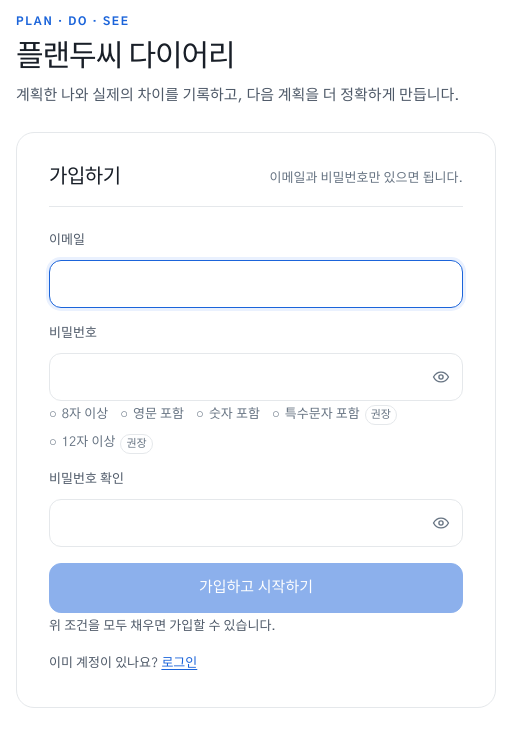
it: 거절당한 뒤 › 두 비밀번호를 비우고 다시 가린다
The width and height of the screenshot is (513, 733).
Expected: the password field labelled "비밀번호" is shown, [49, 353, 463, 401]
In the field labelled "이메일": (256,284) [49, 260, 463, 308], type "synthetic@example.invalid"
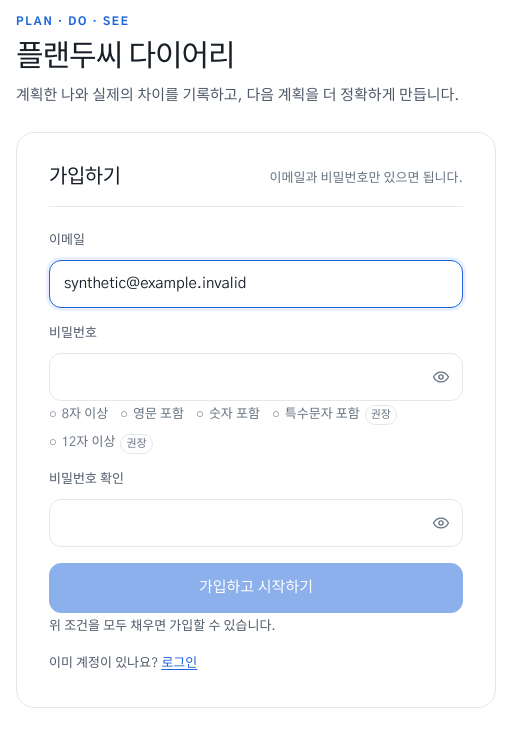
In the password field labelled "비밀번호": (256,377) [49, 353, 463, 401], type "합성-비밀번호-4b2e"
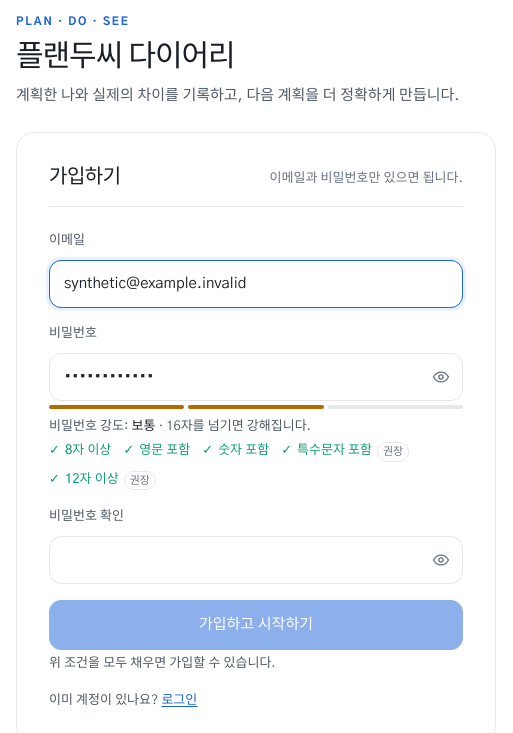
In the password field labelled "비밀번호 확인": (256,560) [49, 536, 463, 584], type "합성-비밀번호-4b2e"
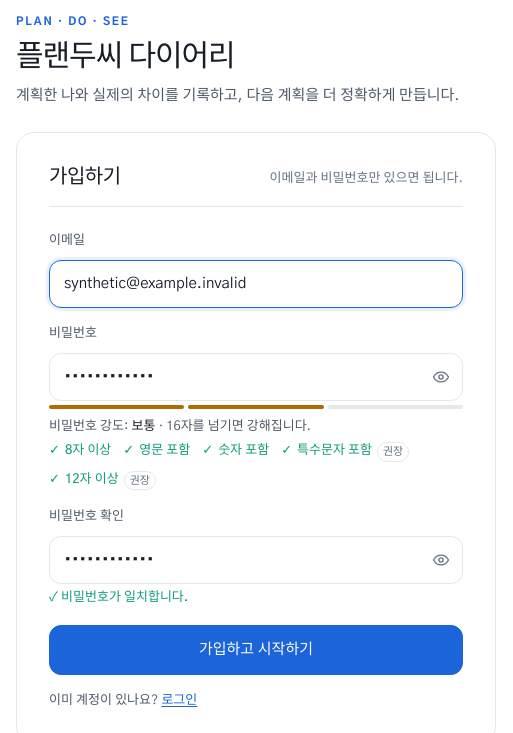
Click the button named "비밀번호 보기": (441,377) [423, 359, 459, 395]
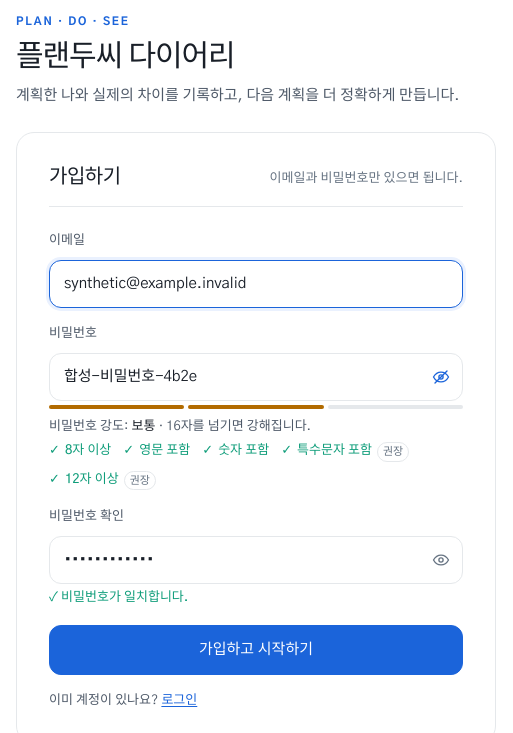
Click the button named "비밀번호 확인 보기": (441,560) [423, 542, 459, 578]
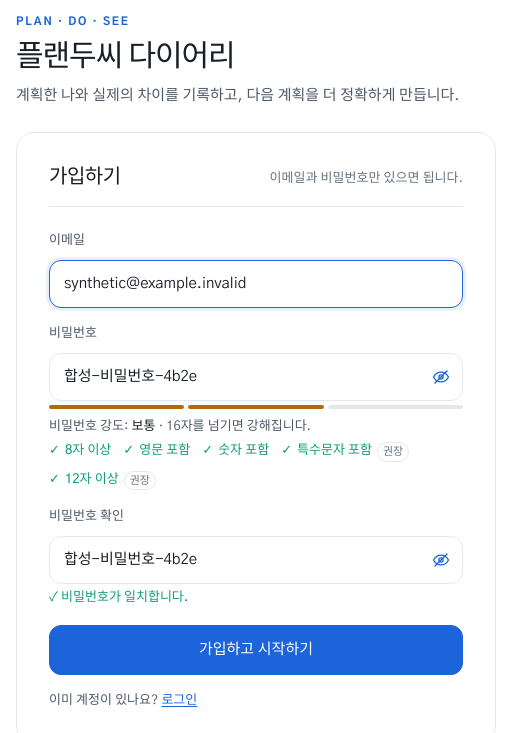
Click the button "가입하고 시작하기": (256,650) [49, 625, 463, 675]
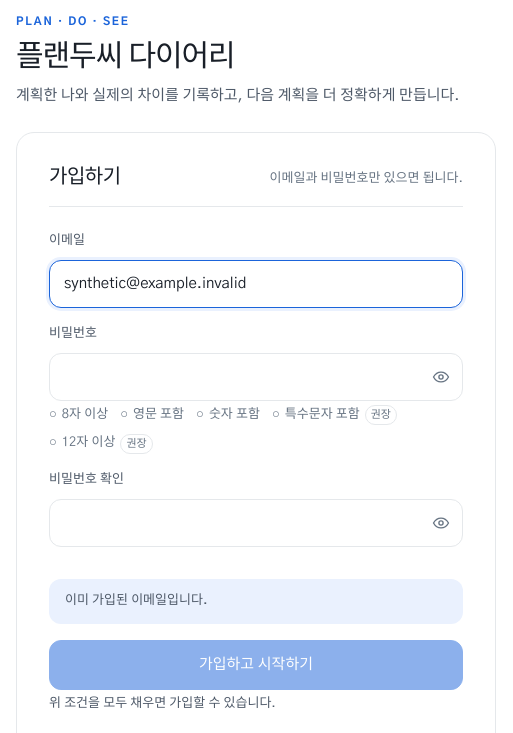
Now the message shows "이미 가입된", box [65, 594, 208, 607]
Now the password field labelled "비밀번호" is empty, box [49, 353, 463, 401]
Now the password field labelled "비밀번호 확인" is empty, box [49, 499, 463, 547]
